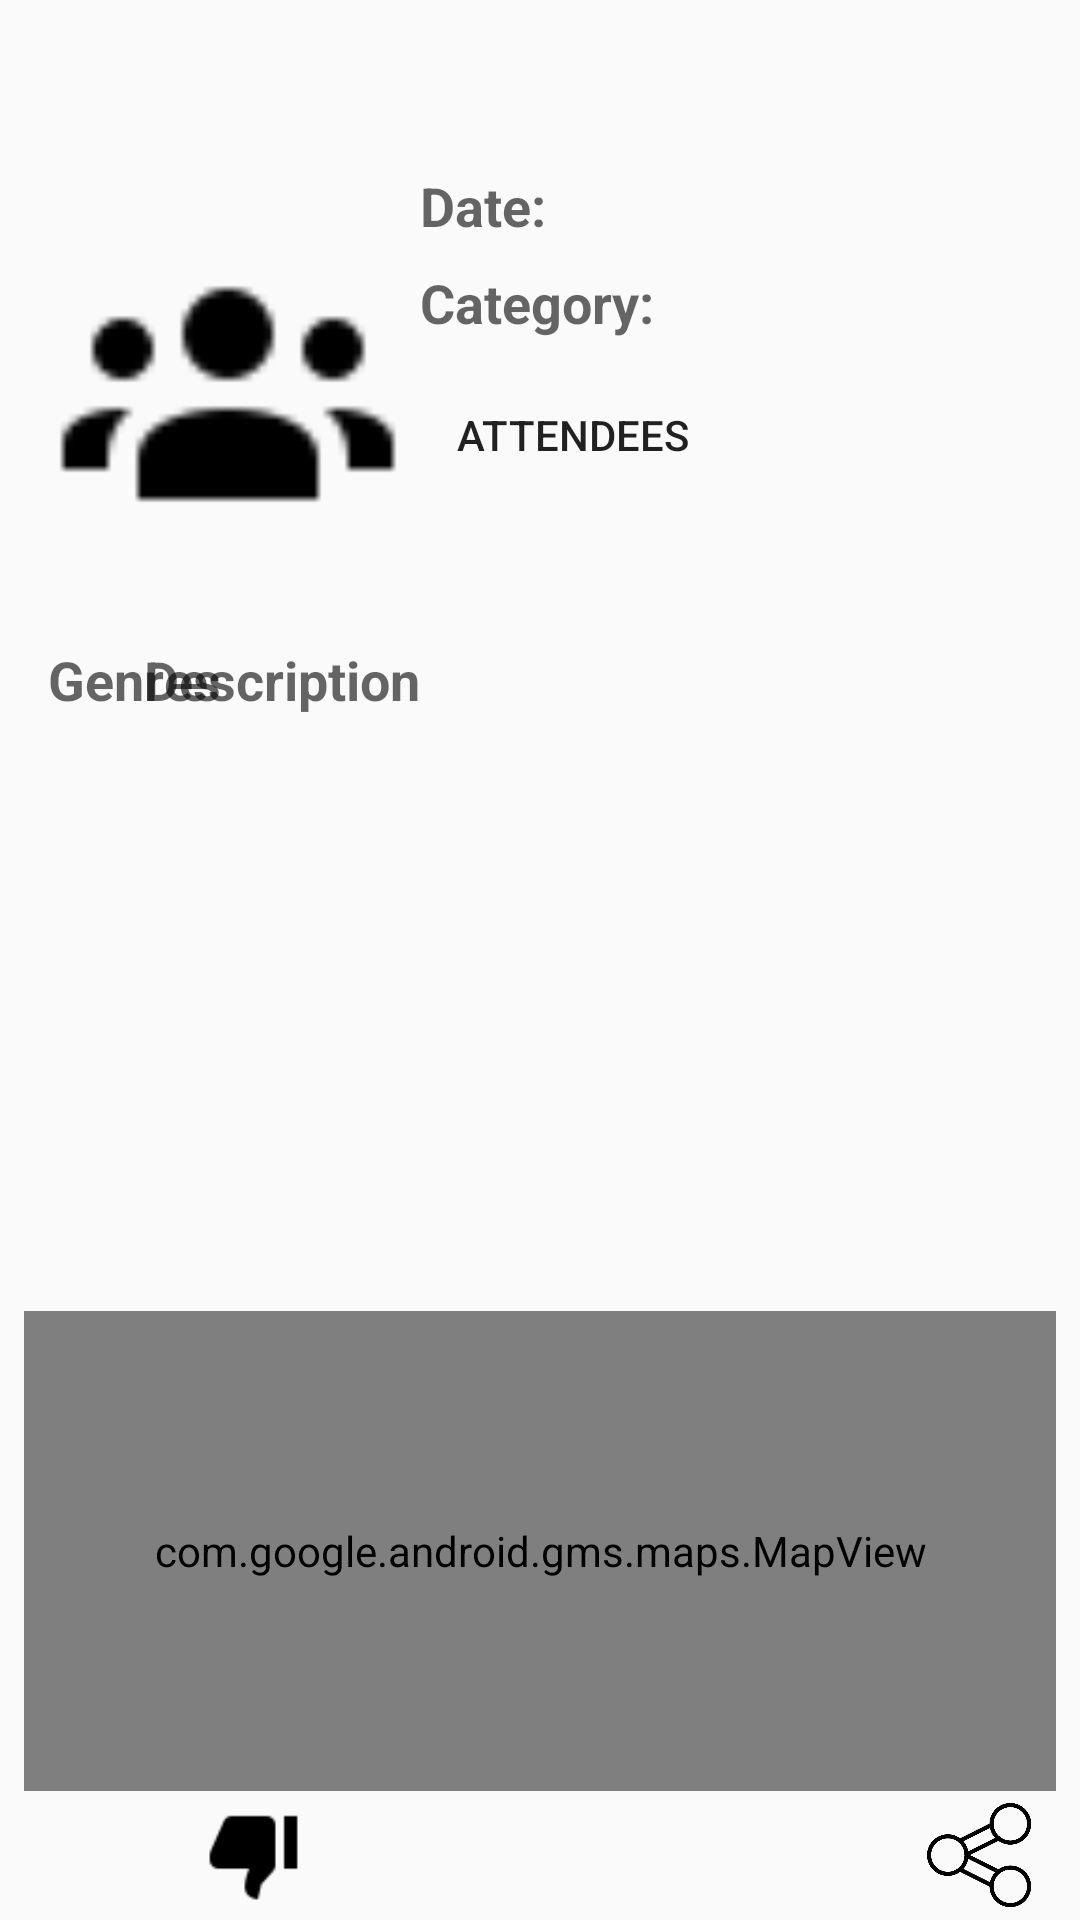

Named icons in this screenshot (1080*1920) and their centers, (x,y):
dislike: (253,1857)
share: (979,1855)
